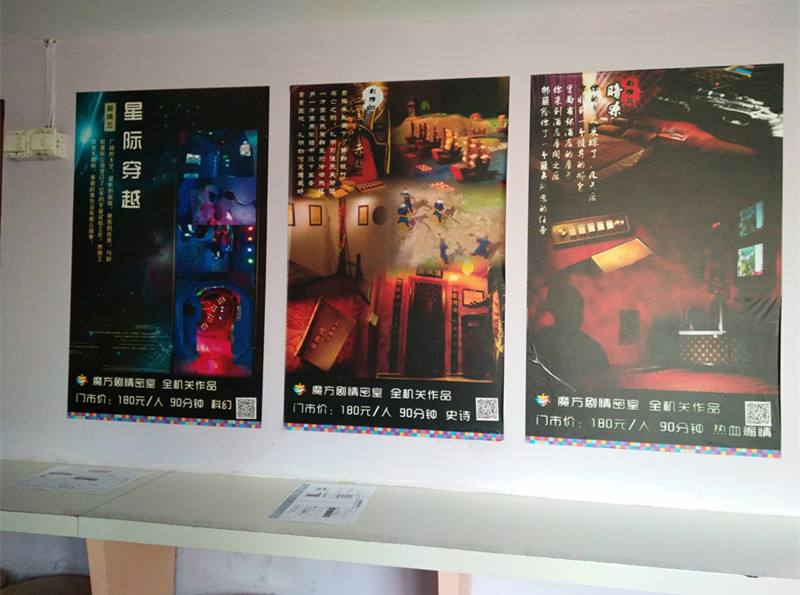bill: (525, 62, 783, 451), (283, 73, 508, 433), (67, 84, 270, 427)
